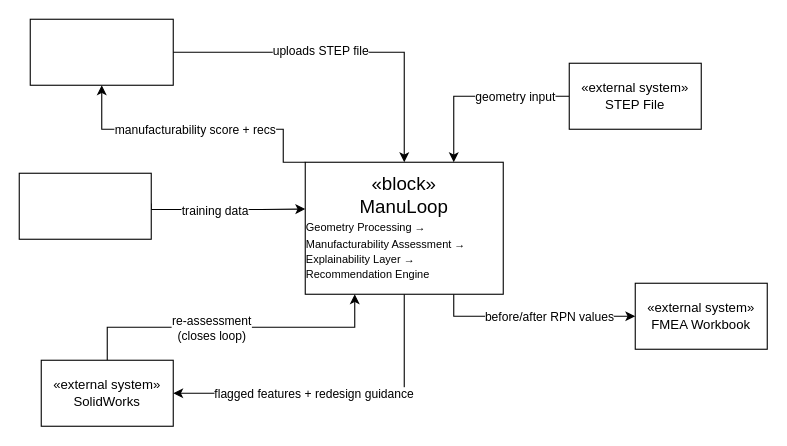
Some shapes in this 787 by 446 pixel diagram are drawn without their labels. Here are the shapes that lost their labels. From the top down, the box of each, then its label:
(29, 18, 173, 85): «actor» Mechanical Engineer
(18, 172, 151, 239): «external system» MFCAD++ Dataset
